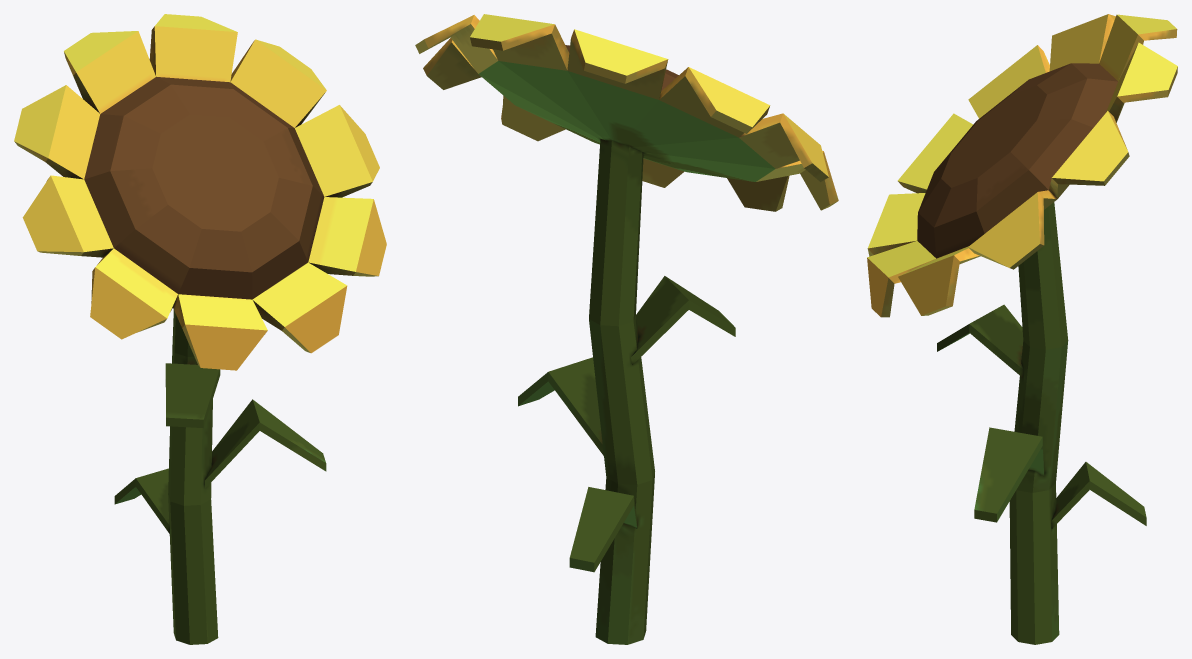
File: aycicek.glb
3 renders of one model, left to right at view 1: azimuth 30°, elevation 25°; view 2: azimuth 150°, elevation 25°; view 3: azimuth 270°, elevation 25°, orthographic. The views are drawn at different scales.
Parts seen in each view (by area): view 1: sunflower; view 2: sunflower; view 3: sunflower.
Part boxes in pixels (<box>): sunflower: <box>14,14,386,644</box>; sunflower: <box>415,14,838,644</box>; sunflower: <box>867,14,1177,644</box>.
Size of the model in its own units: 1.22 by 1.93 by 0.9139.
1 material, 1 textured.
